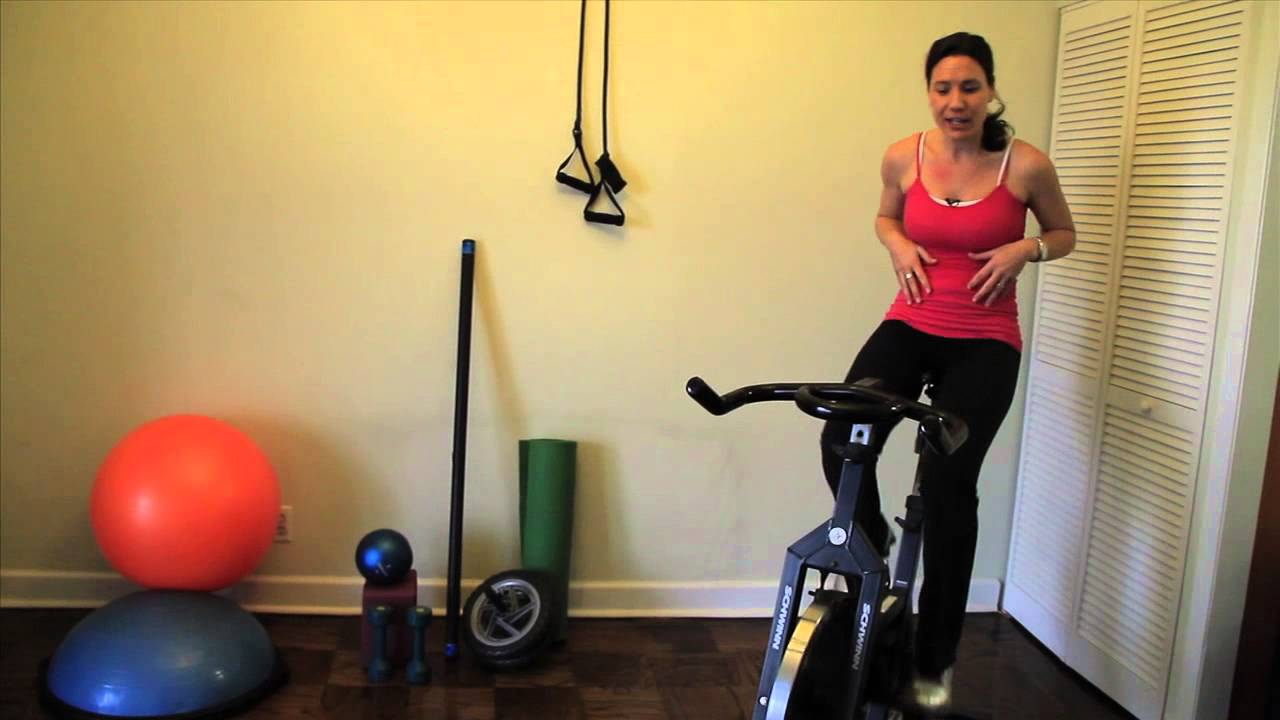gym_bike: (647, 375, 976, 720)
